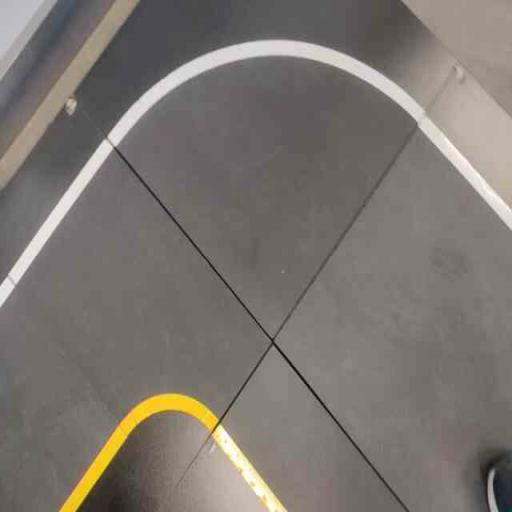left: (4, 3, 435, 459)
